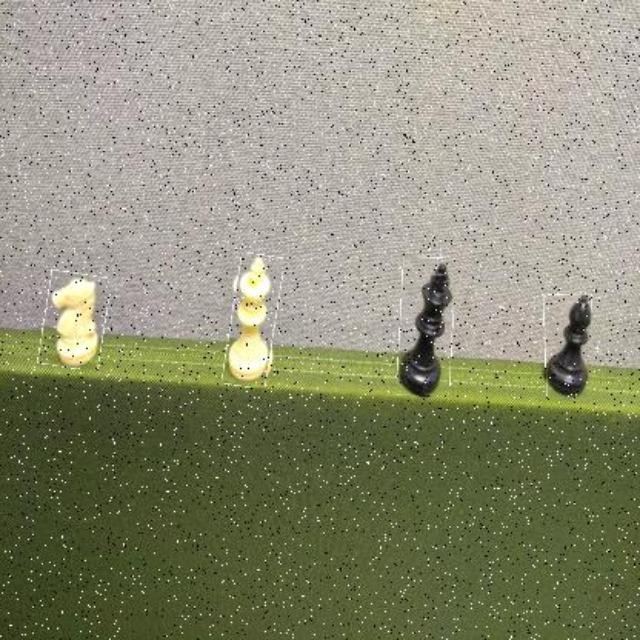black-bishop: (543, 294, 592, 400)
black-king: (398, 258, 453, 398)
white-king: (226, 255, 279, 388)
white-knight: (42, 272, 108, 370)
